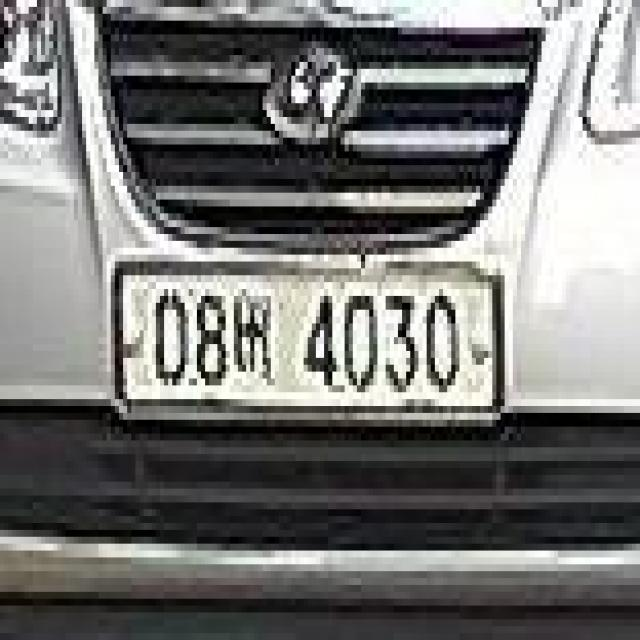illegal_plate: (110, 247, 509, 437)
